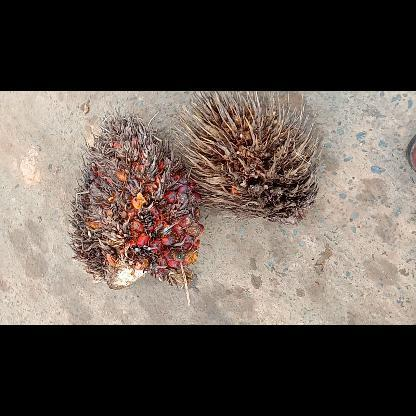Janjang kosong: (172, 91, 322, 223)
Terlalu masak: (66, 107, 204, 306)
